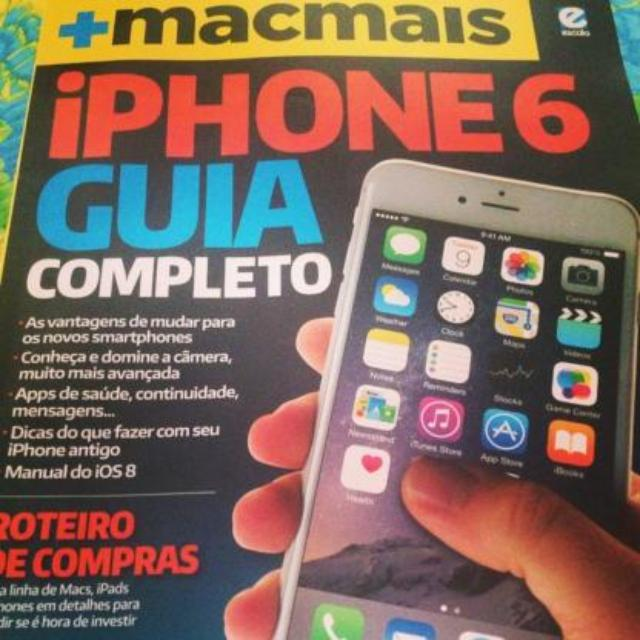Smartphone: (294, 148, 640, 640)
